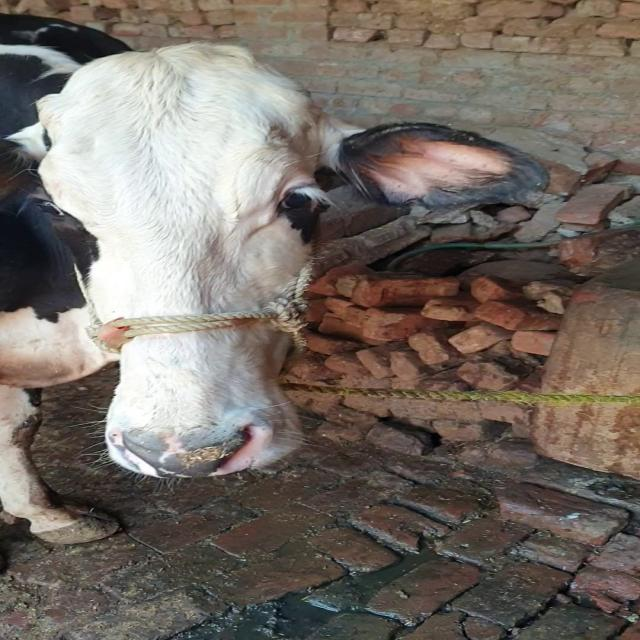cowFace: (22, 48, 356, 487)
